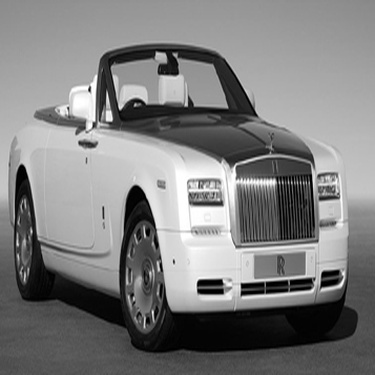car: (4, 37, 360, 353)
